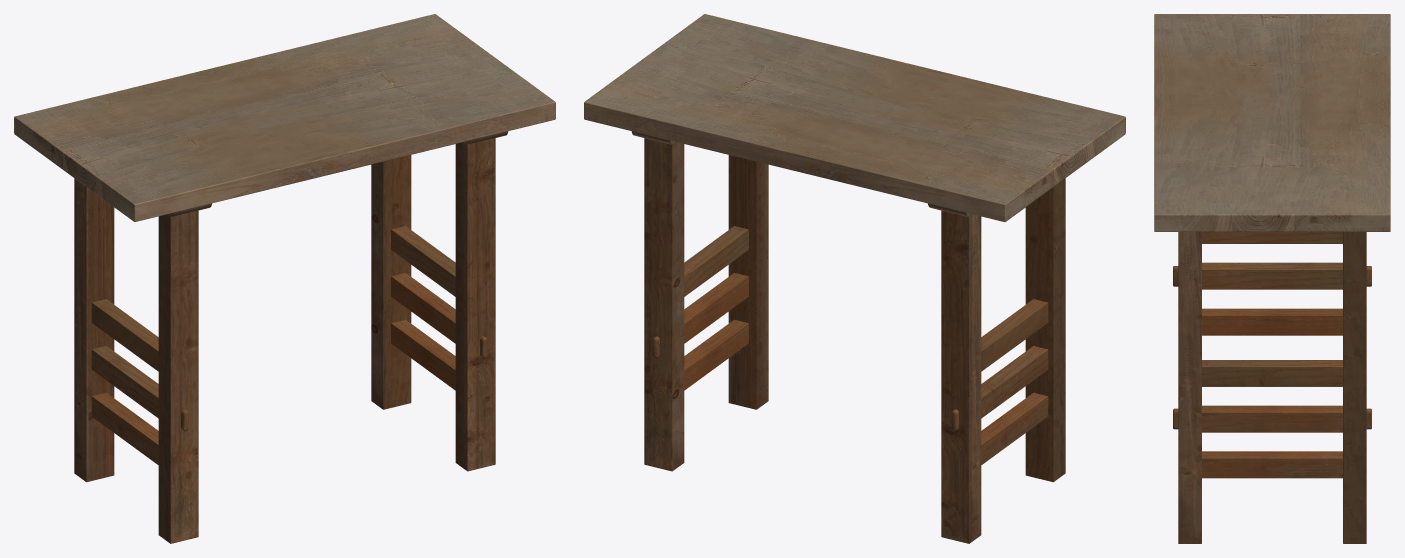
File: B07B7B8KNR.glb
3 renders of one model, left to right at view 1: azimuth 30°, elevation 25°; view 2: azimuth 150°, elevation 25°; view 3: azimuth 270°, elevation 25°, orthographic. The views are drawn at different scales.
Visible parts, largest first — view 1: RootNode; view 2: RootNode; view 3: RootNode.
Boxes of the visible parts, left/top/right/bottom form: RootNode: left=14, top=14, right=555, bottom=543; RootNode: left=584, top=14, right=1125, bottom=543; RootNode: left=1154, top=14, right=1390, bottom=543.
Bounding box in the file's own units: 1.12 × 0.9139 × 0.5558.
Materials: 1 (1 with a texture image).
